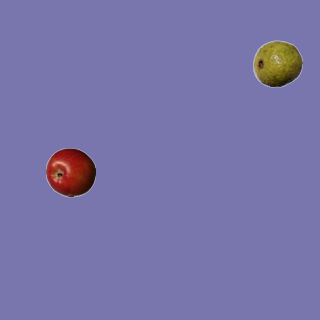Apple Braeburn: (45, 147, 95, 197)
Guava: (252, 38, 302, 88)
